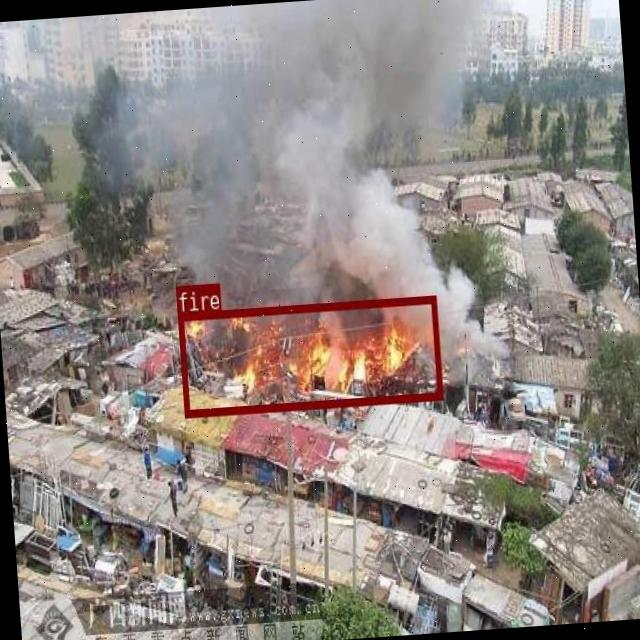fire: (176, 294, 442, 416)
